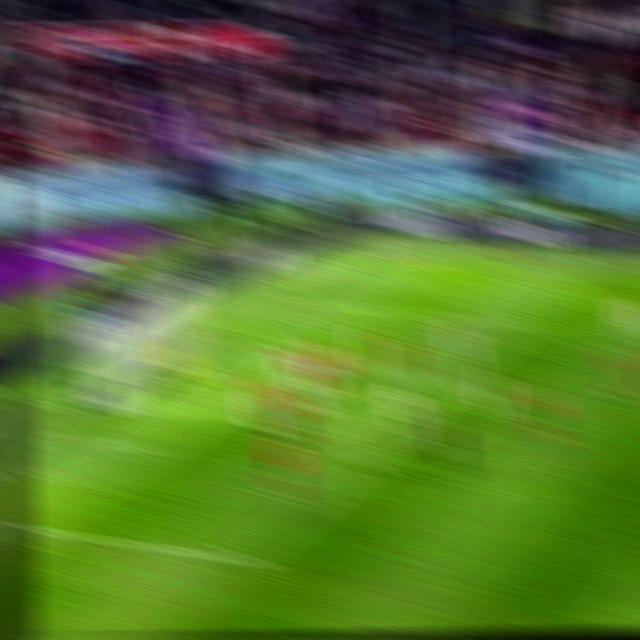bigarea_bottom_inner: (228, 542, 269, 578)
bigarea_top_inner: (503, 310, 538, 338)
bigarea_top_outter: (285, 289, 318, 311)
bottom_arc_area_intersection: (341, 446, 378, 475)
corner: (359, 248, 392, 265)
smallarea_bottom_inner: (139, 431, 178, 466)
smallarea_bottom_outter: (54, 422, 91, 452)
smallarea_top_inner: (283, 342, 315, 366)
smallarea_top_outter: (212, 330, 246, 356)
top_arc_area_intersection: (437, 367, 470, 392)
